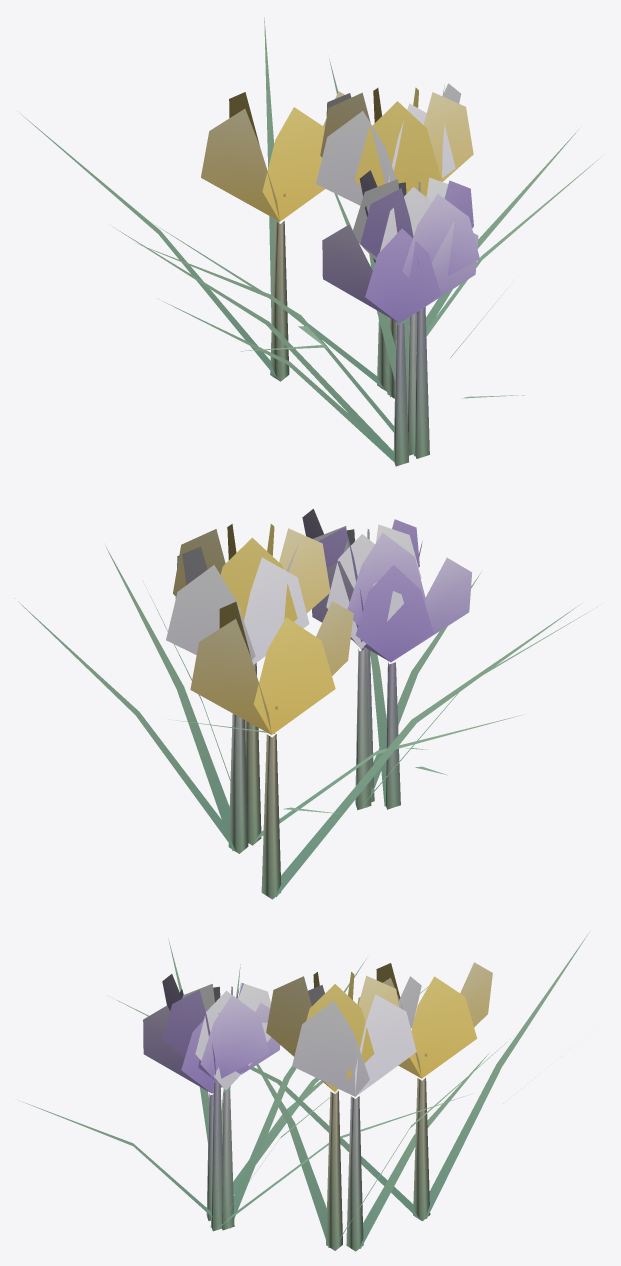
Rendered from crocus_patch_b_mid.glb.
The picture shows the model from 3 angles, top to bottom: view 1: azimuth 30°, elevation 25°; view 2: azimuth 150°, elevation 25°; view 3: azimuth 270°, elevation 25°; orthographic projection. The views are drawn at different scales.
Visible parts, largest first — view 1: soft; view 2: soft; view 3: soft.
Part boxes in pixels (box(x1,y1,x2,y2)): soft: box(17, 17, 604, 466); soft: box(14, 509, 596, 899); soft: box(18, 932, 589, 1251).
Bounding box in the file's own units: 0.397 × 0.2576 × 0.4968.
